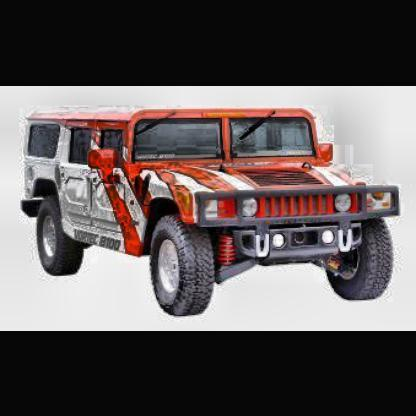AM General Hummer SUV 2000: (23, 108, 403, 319)
